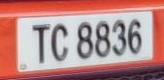3: (111, 17, 129, 61)
6: (127, 16, 145, 59)
8: (75, 18, 95, 66), (93, 16, 112, 65)
C: (50, 20, 73, 68)
T: (29, 18, 52, 71)
